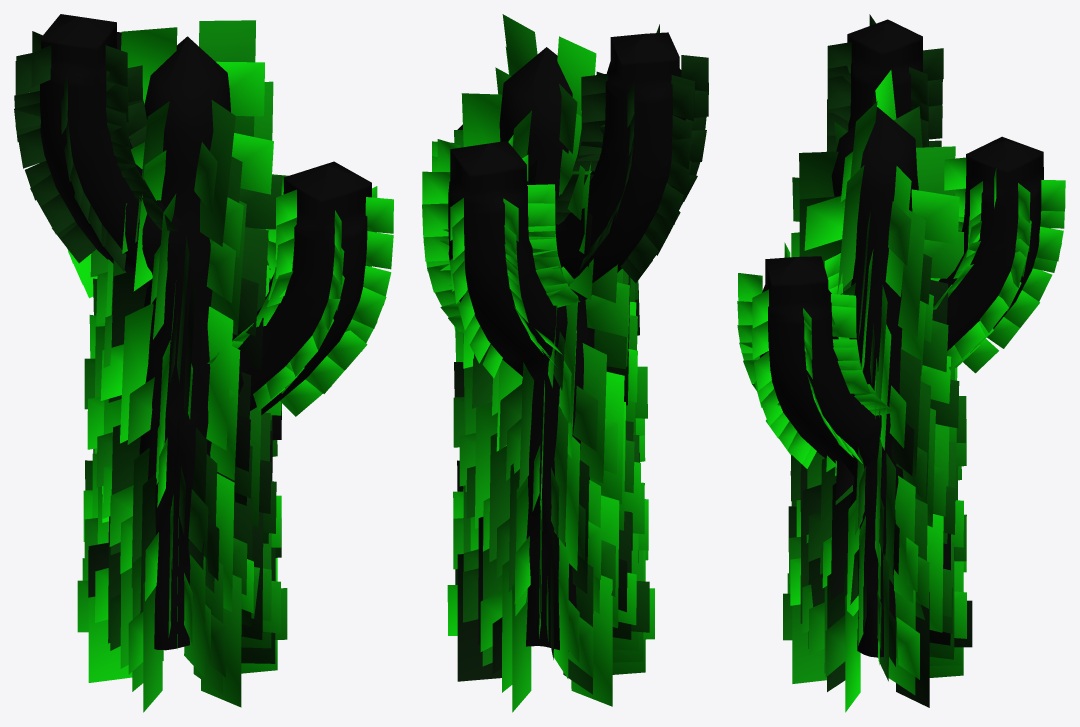
Rendered from Cactus_2_3.fbx.
3 renders of one model, left to right at view 1: azimuth 30°, elevation 25°; view 2: azimuth 150°, elevation 25°; view 3: azimuth 270°, elevation 25°, orthographic. The views are drawn at different scales.
Parts seen in each view (by area): view 1: Cactus_2_3; view 2: Cactus_2_3; view 3: Cactus_2_3.
Boxes of the visible parts, x1,y1,x2,y2 form: Cactus_2_3: (14, 14, 393, 712); Cactus_2_3: (422, 14, 708, 712); Cactus_2_3: (737, 14, 1065, 712).
Size of the model in its own units: 191 by 395 by 192.
